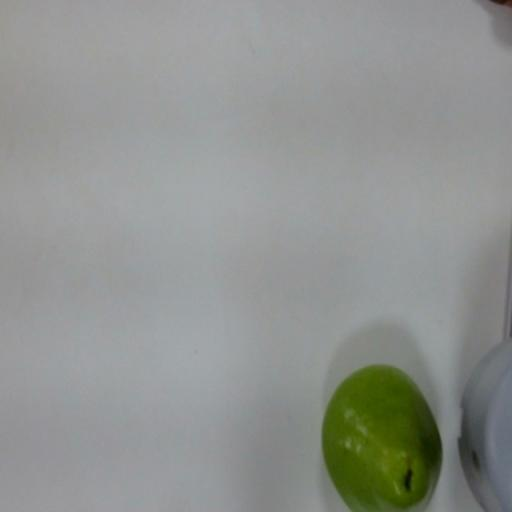Unripe: (316, 354, 457, 511)
